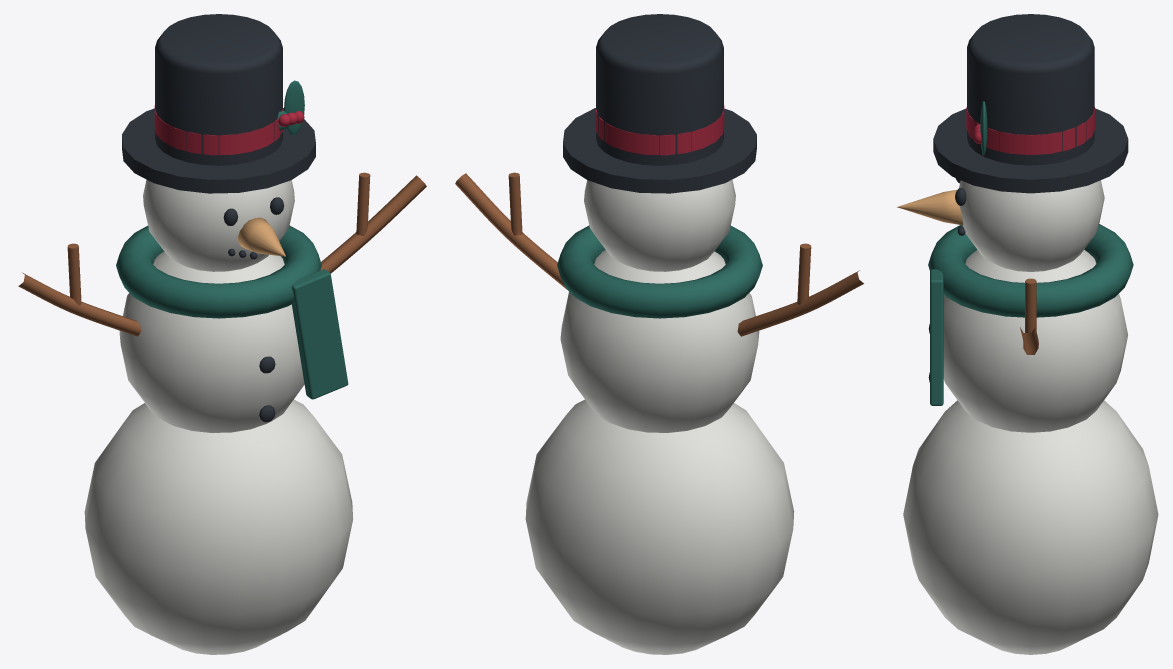
The model's file is christmas-storybook-winter-snowman-2075465b__18772.glb.
The picture shows the model from 3 angles, left to right: view 1: azimuth 30°, elevation 25°; view 2: azimuth 150°, elevation 25°; view 3: azimuth 270°, elevation 25°; orthographic projection.
Visible parts, largest first — view 1: cream, ink, pine, oak, berry, biscuit; view 2: cream, ink, pine, oak, berry; view 3: cream, ink, pine, berry, biscuit, oak.
Boxes of the visible parts, left/top/right/bottom form: cream: left=84, top=179, right=353, bottom=654; ink: left=122, top=14, right=315, bottom=422; pine: left=116, top=80, right=348, bottom=399; oak: left=18, top=172, right=426, bottom=336; berry: left=154, top=105, right=304, bottom=155; biscuit: left=238, top=217, right=285, bottom=256; cream: left=525, top=180, right=794, bottom=654; ink: left=563, top=14, right=756, bottom=193; pine: left=557, top=225, right=762, bottom=318; oak: left=455, top=172, right=863, bottom=336; berry: left=595, top=105, right=724, bottom=155; cream: left=903, top=180, right=1158, bottom=654; ink: left=928, top=14, right=1128, bottom=382; pine: left=928, top=101, right=1133, bottom=405; berry: left=966, top=107, right=1095, bottom=155; biscuit: left=897, top=189, right=963, bottom=225; oak: left=1020, top=278, right=1038, bottom=354.
Bounding box in the file's own units: 1.4 × 1.99 × 0.78.
